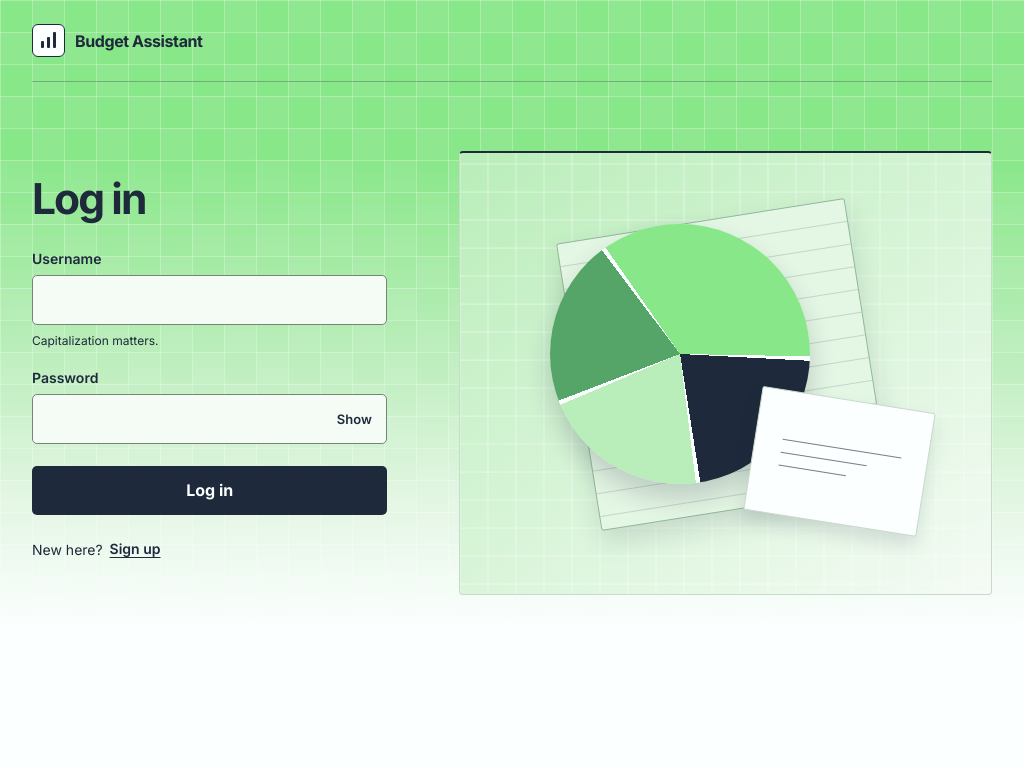
shows the signup hint and lets the user correct a duplicate username
Expected: the heading "Log in" is shown, [32,173,146,224]
Step 1. Click the button "Sign up" → (135, 549), box [107,527,164,571]
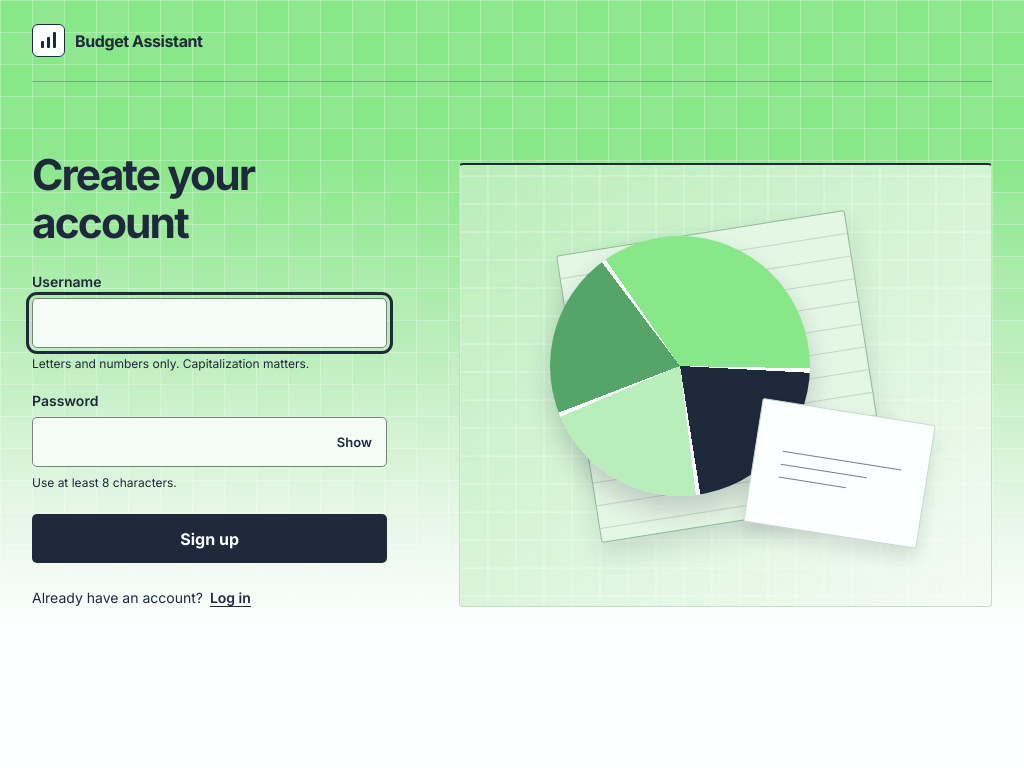
Now the text "Use at least 8 characters." is shown, box [32,475,177,490]
Step 2. Type "BudgetUser8" into the field labelled "Username" → (210, 323), box [32,298,387,348]
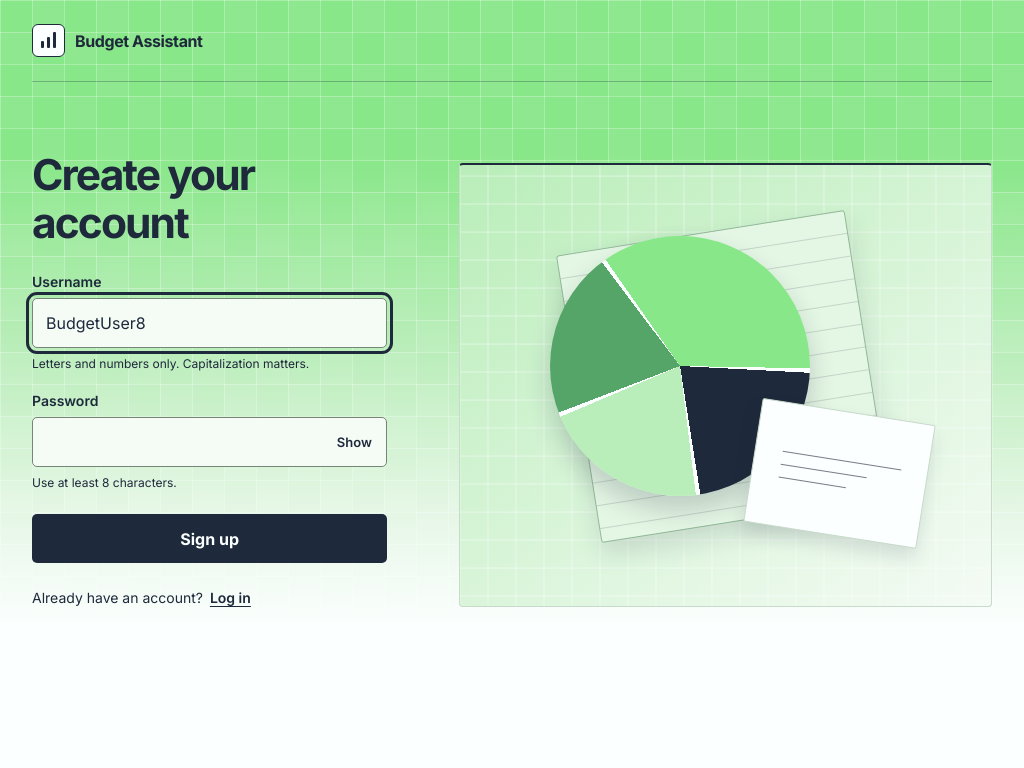
Step 3. Type "Demo8abc" into the password field labelled "Password" → (210, 442), box [32,417,387,467]
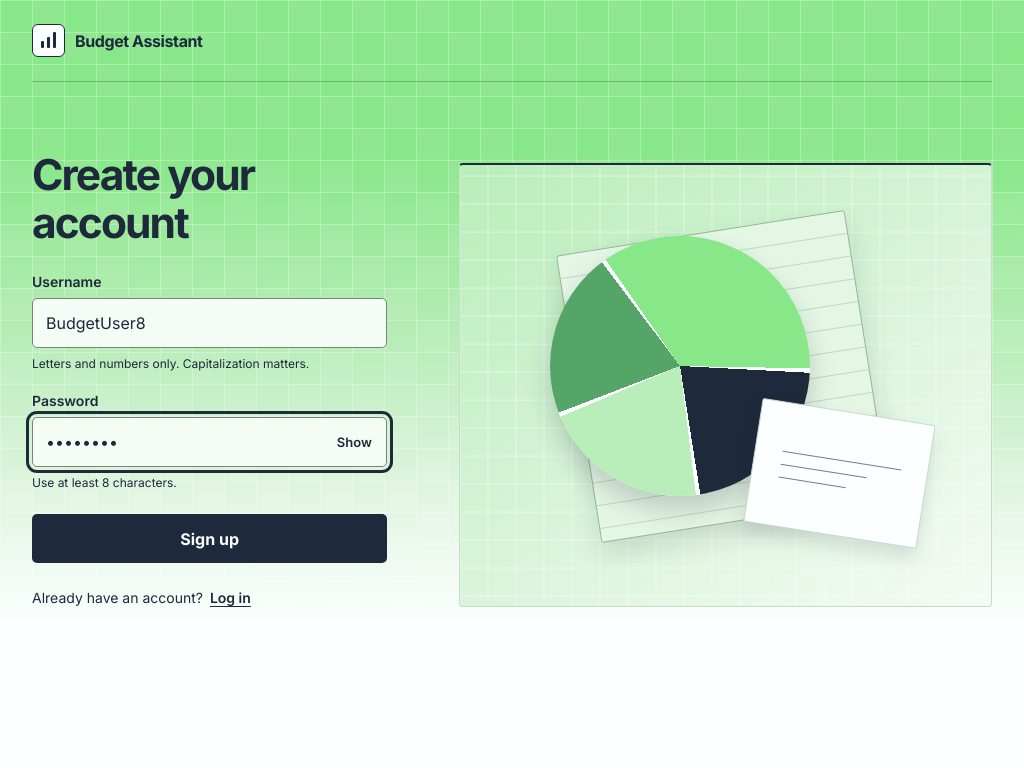
Step 4. Click the button "Sign up" → (210, 539), box [32,514,387,563]
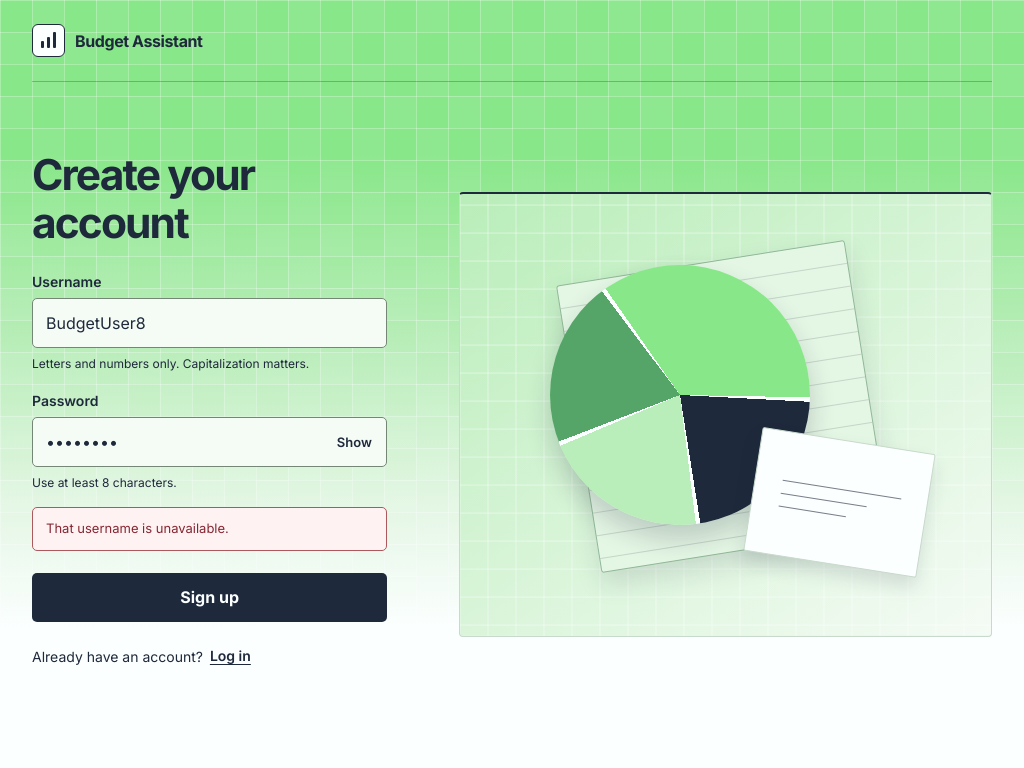
Now the message reads "That username is unavailable.", box [46,520,229,536]
Step 5. Type "2" into the field labelled "Username" → (210, 323), box [32,298,387,348]
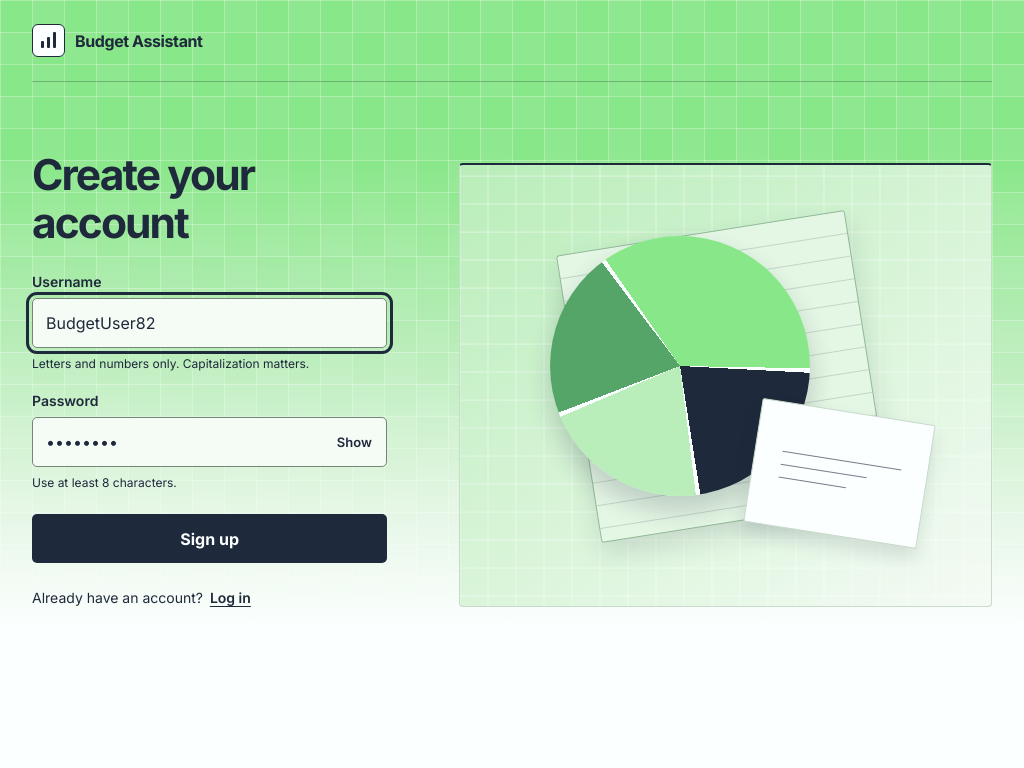
Now the message "That username is unavailable." is gone
Step 6. Click the button "Sign up" → (210, 539), box [32,514,387,563]
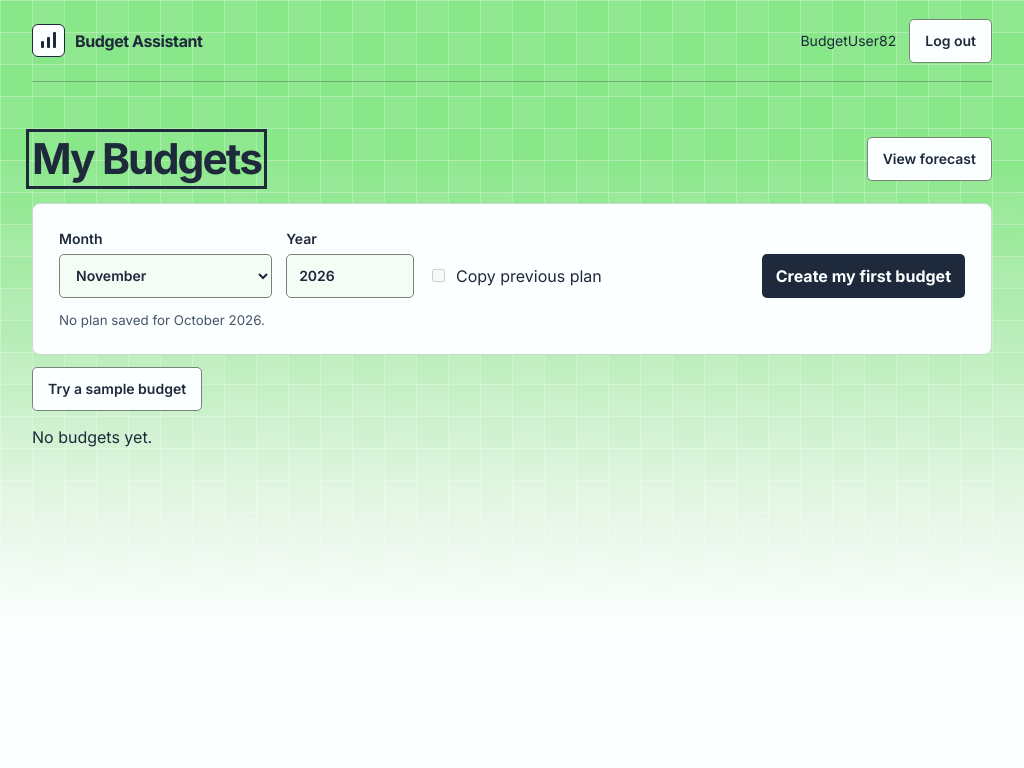
Now the heading "My Budgets" is shown, box [32,135,261,183]
